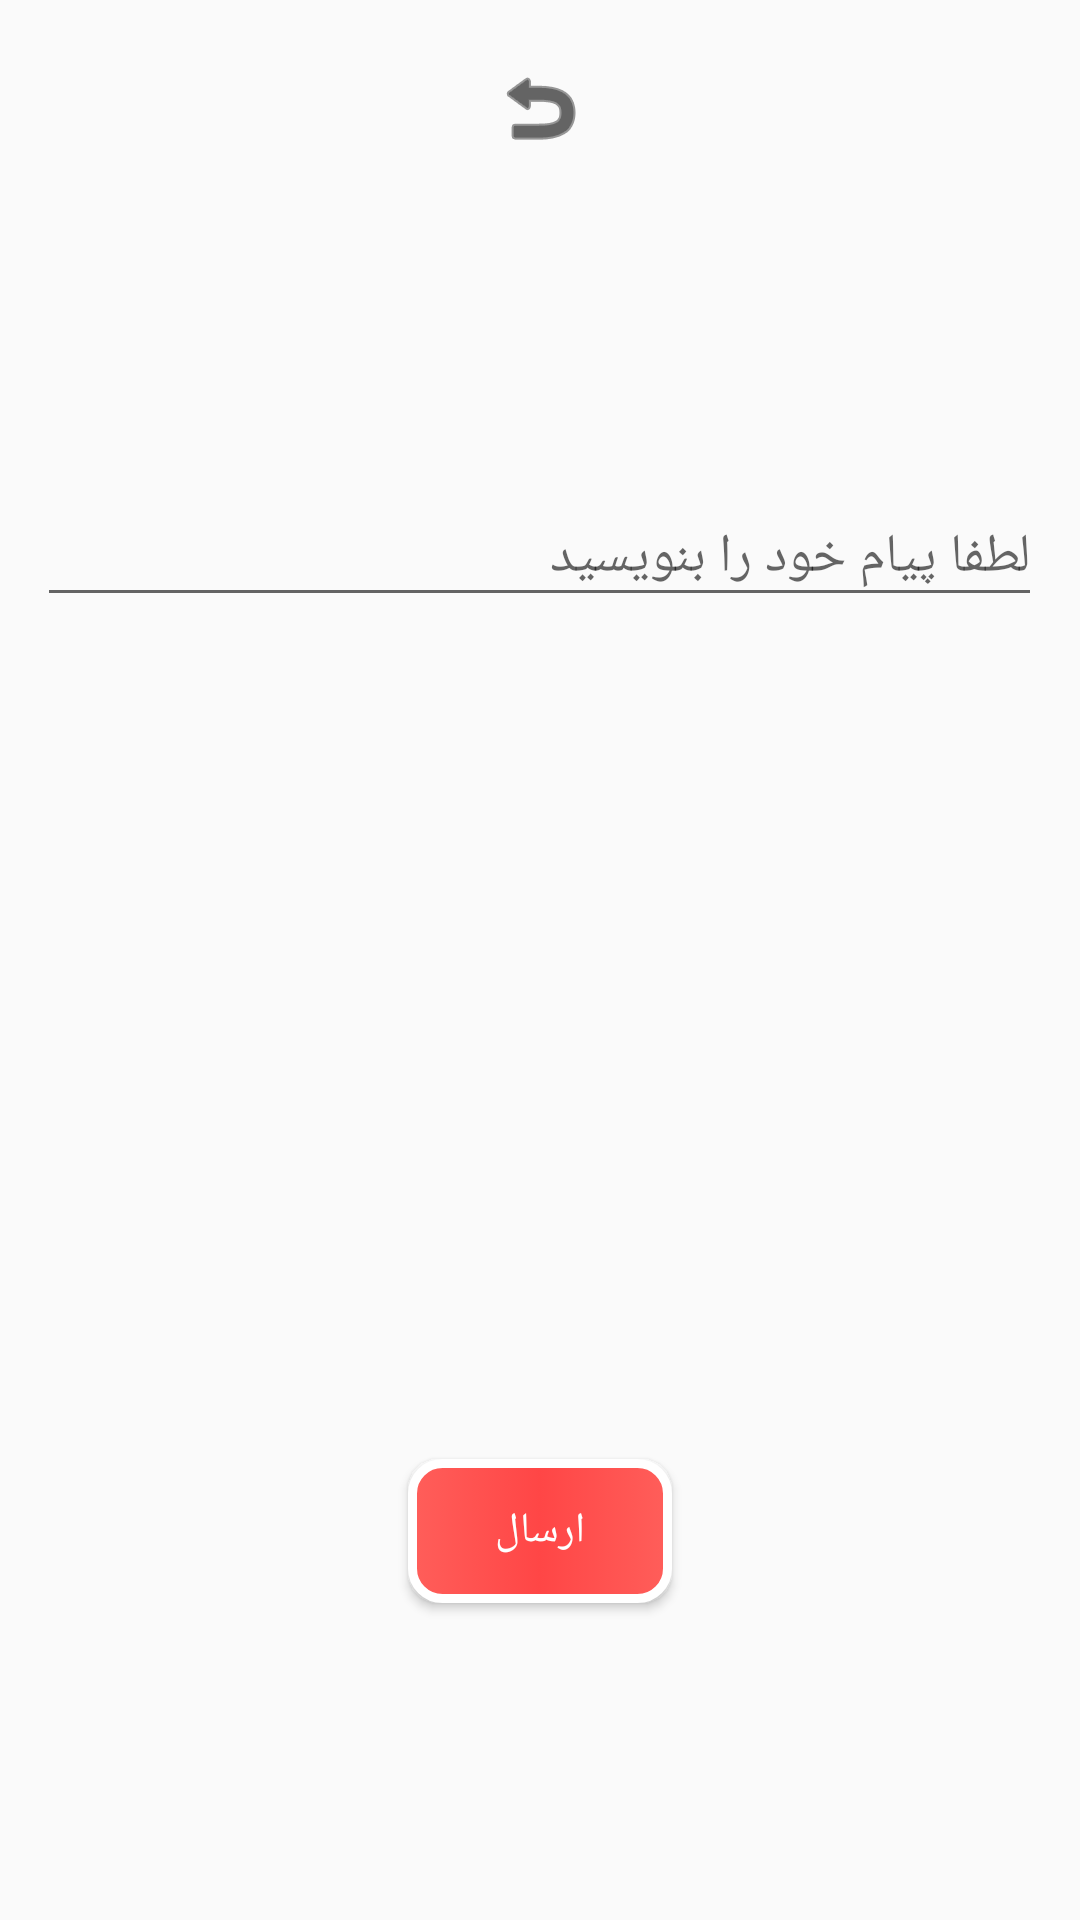

Icons on this 1080px×1920px Android screen, each with its box as bbox=(x1, y1, x2, y2):
revert: bbox=(507, 77, 576, 140)
